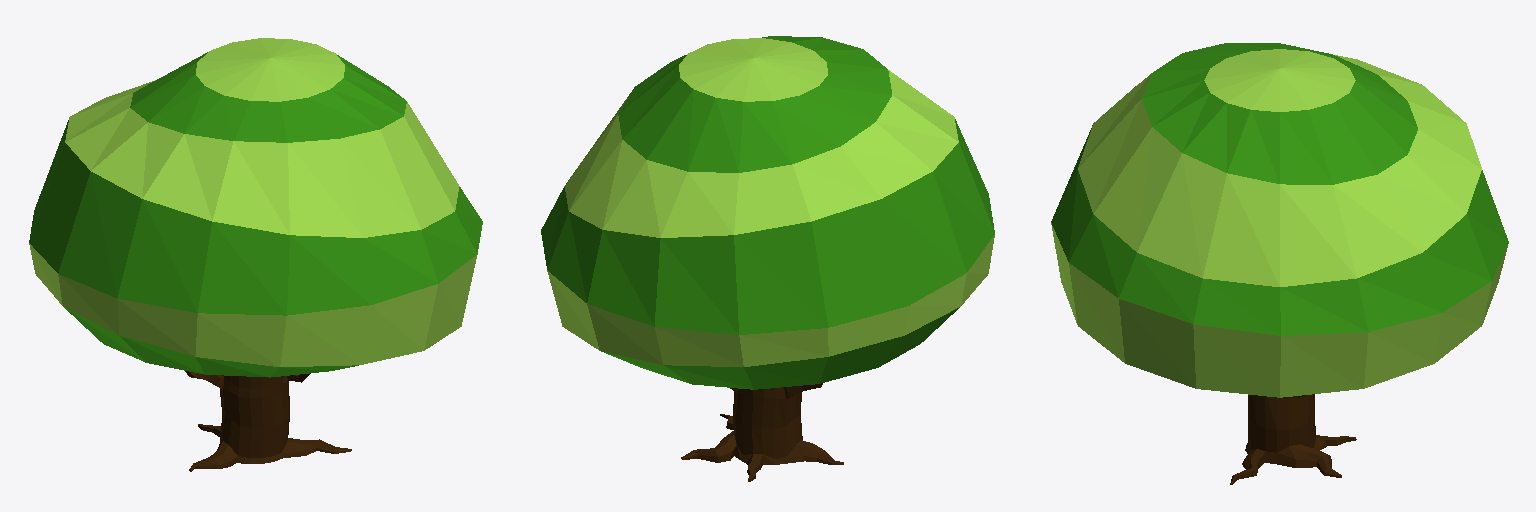
3 renders of one model, left to right at view 1: azimuth 30°, elevation 25°; view 2: azimuth 150°, elevation 25°; view 3: azimuth 270°, elevation 25°, orthographic.
Parts seen in each view (by area): view 1: tree; view 2: tree; view 3: tree.
Part boxes in pixels (x1,y1,x2,y2): tree: (29, 38, 482, 471); tree: (541, 36, 994, 481); tree: (1051, 43, 1508, 484).
Size of the model in its own units: 162 by 151 by 161.
1 materials, 1 textured.